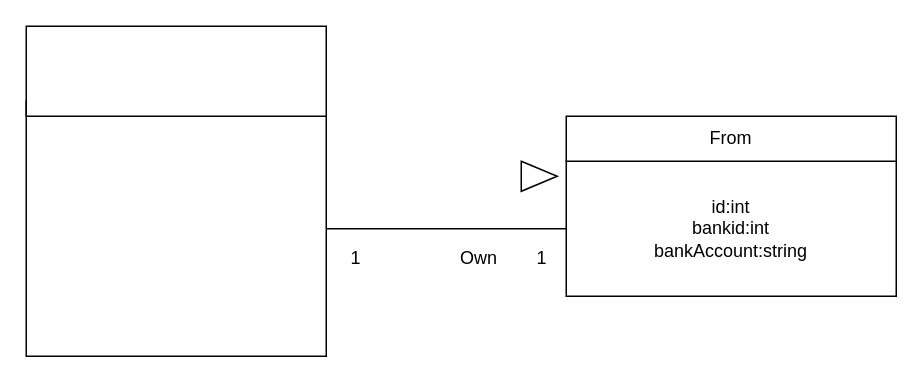
This 923x383 diagram has some shape labels left out. The centre of each missing label's shape, as x and y in pixels:
"id:int Uid:string name:string phoneNumber:string cardid:string" goes at [175,228].
"User" goes at [175,70].
